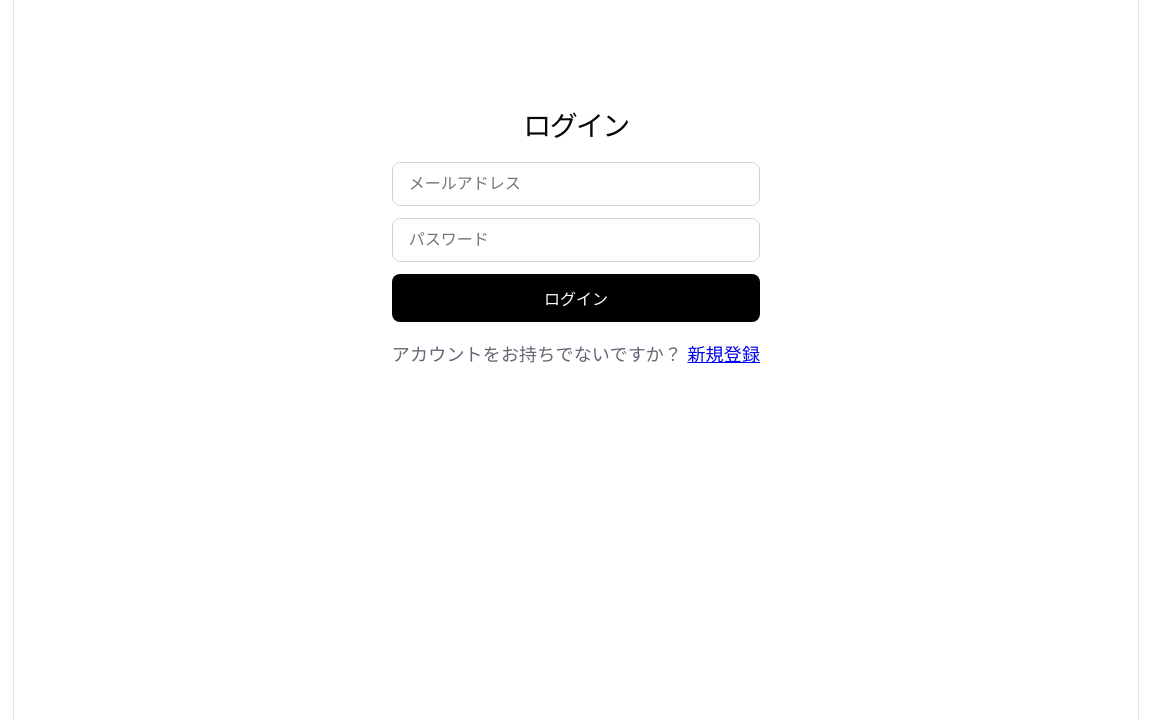
LoginPage › ログイン失敗時にエラーメッセージが表示される
In the field with placeholder "メールアドレス": (576, 184) [392,162,760,206], type "wrong@example.com"
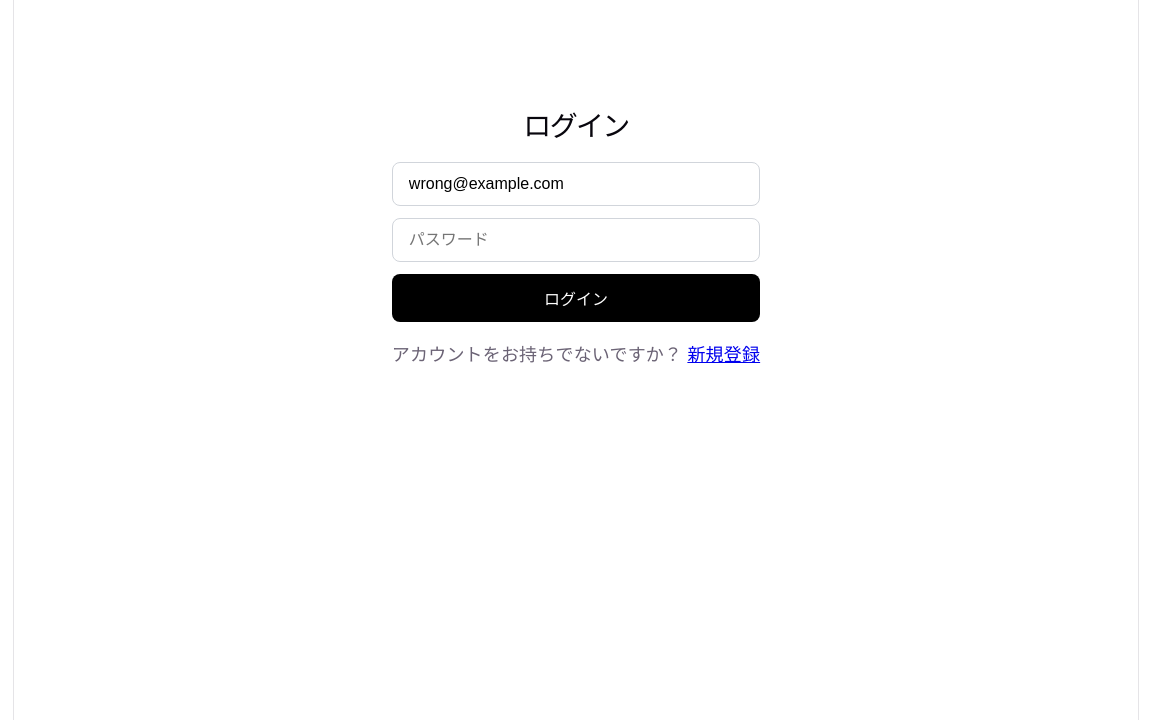
In the password field with placeholder "パスワード": (576, 240) [392,218,760,262], type "wrongpassword"
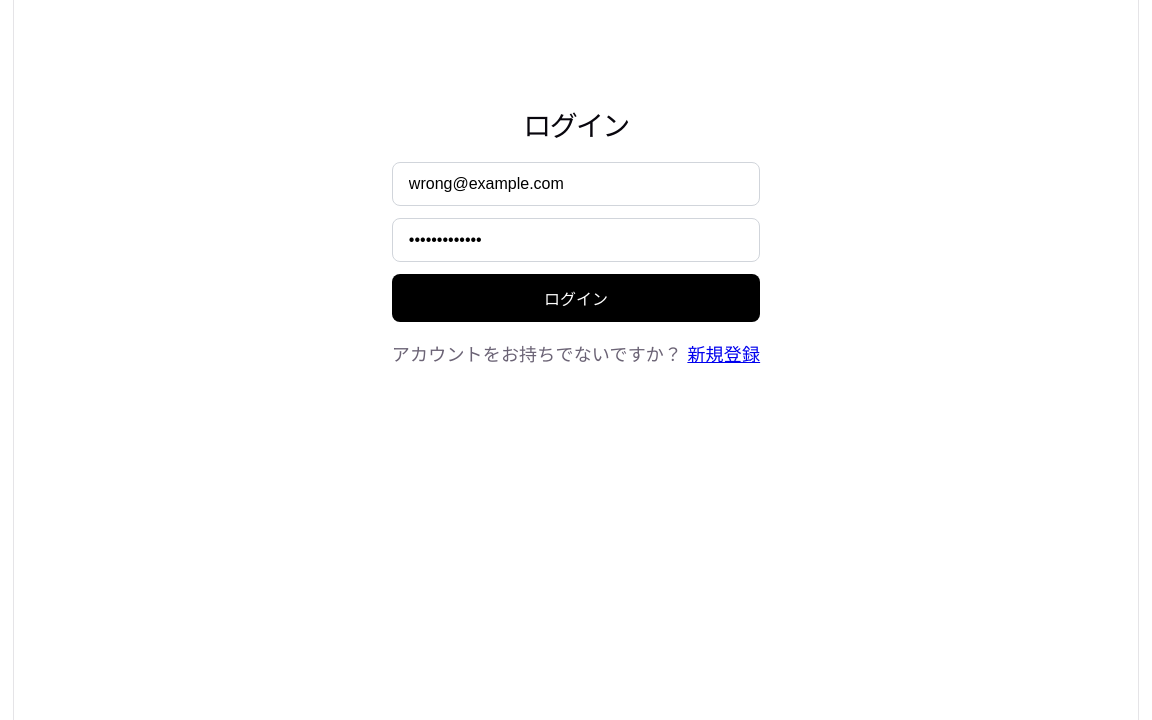
Click the button "ログイン": (576, 298) [392,274,760,322]
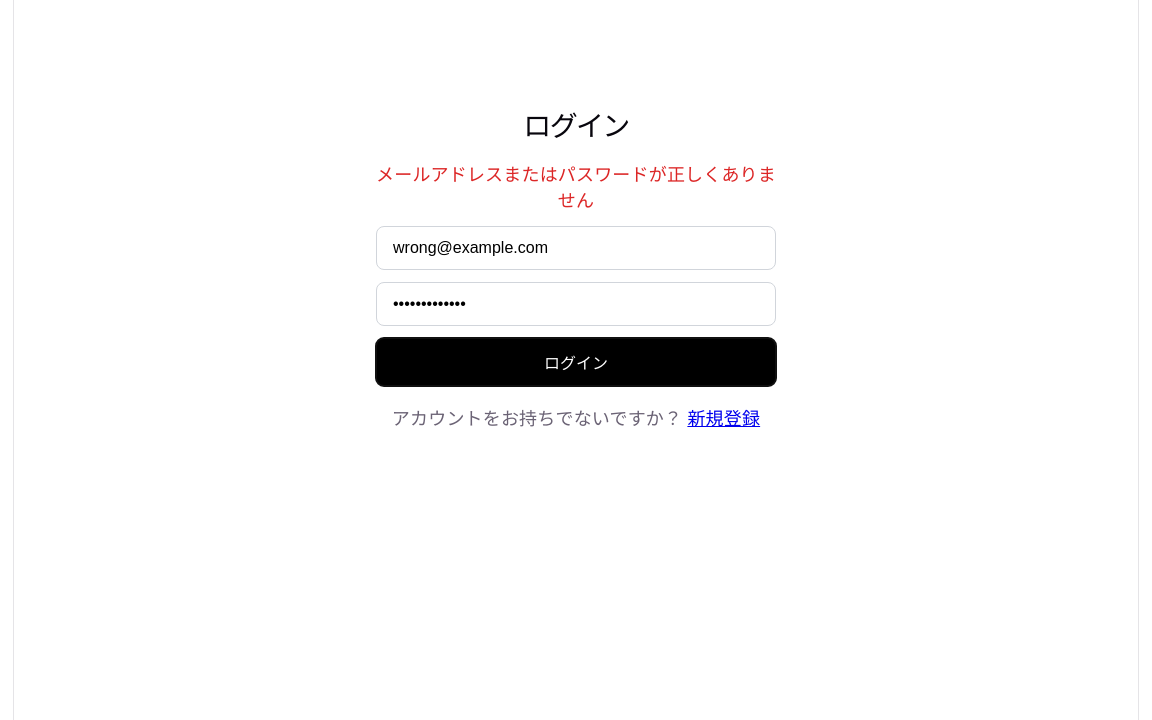
expect the text "メールアドレスまたはパスワードが正しくありません" is shown: met, box [376,162,776,214]
